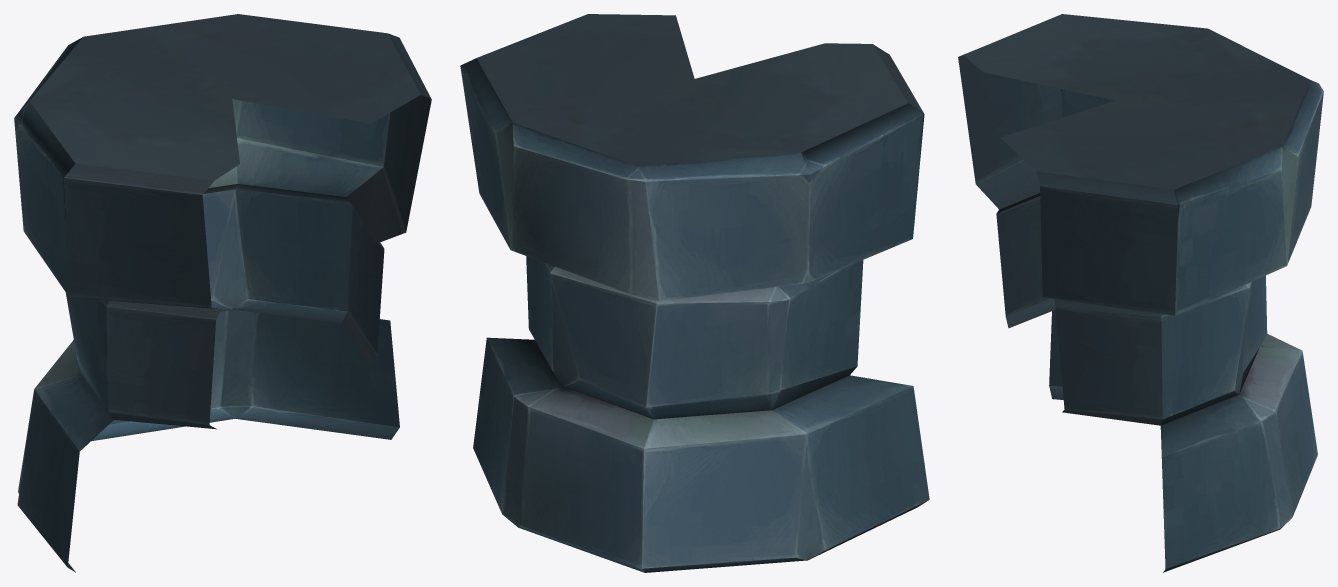
The model's file is A_CR_GEN_WallColumn_02.fbx.
The picture shows the model from 3 angles, left to right: view 1: azimuth 30°, elevation 25°; view 2: azimuth 150°, elevation 25°; view 3: azimuth 270°, elevation 25°; orthographic projection. The views are drawn at different scales.
Parts seen in each view (by area): view 1: A_CR_GEN_WallColumn_02; view 2: A_CR_GEN_WallColumn_02; view 3: A_CR_GEN_WallColumn_02.
Part boxes in pixels (bbox=[...]): A_CR_GEN_WallColumn_02: bbox=[14, 14, 431, 572]; A_CR_GEN_WallColumn_02: bbox=[460, 14, 929, 572]; A_CR_GEN_WallColumn_02: bbox=[958, 14, 1323, 572].
Size of the model in its own units: 257 by 250 by 214.
1 material, 1 textured.
